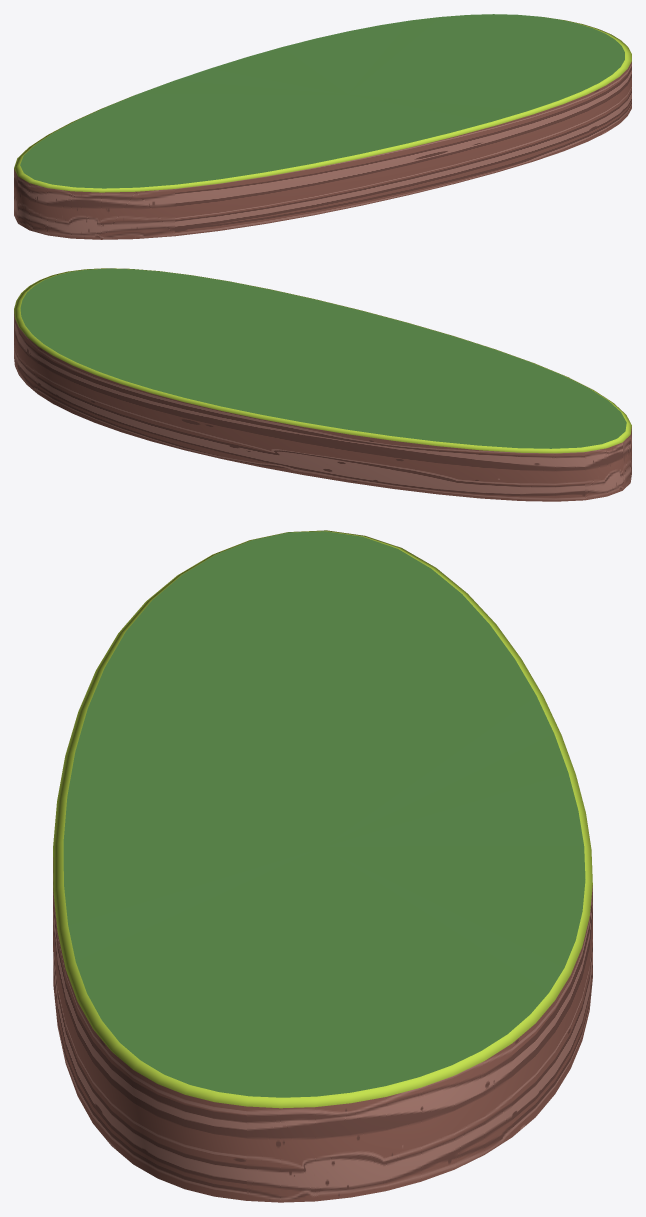
The model's file is grasschunk2.glb.
3 views of the same model, one above another, from view 1: azimuth 30°, elevation 25°; view 2: azimuth 150°, elevation 25°; view 3: azimuth 270°, elevation 25° (orthographic). The views are drawn at different scales.
Visible parts, largest first — view 1: Plate_Curved_Var16_10_Forest_mat_01_0; view 2: Plate_Curved_Var16_10_Forest_mat_01_0; view 3: Plate_Curved_Var16_10_Forest_mat_01_0.
Boxes of the visible parts, x1,y1,x2,y2 form: Plate_Curved_Var16_10_Forest_mat_01_0: (14,14,631,239); Plate_Curved_Var16_10_Forest_mat_01_0: (14,268,631,501); Plate_Curved_Var16_10_Forest_mat_01_0: (53,530,592,1202).
Size of the model in its own units: 0.416 by 0.0332 by 0.1643.
Materials: 1 (1 with a texture image).
